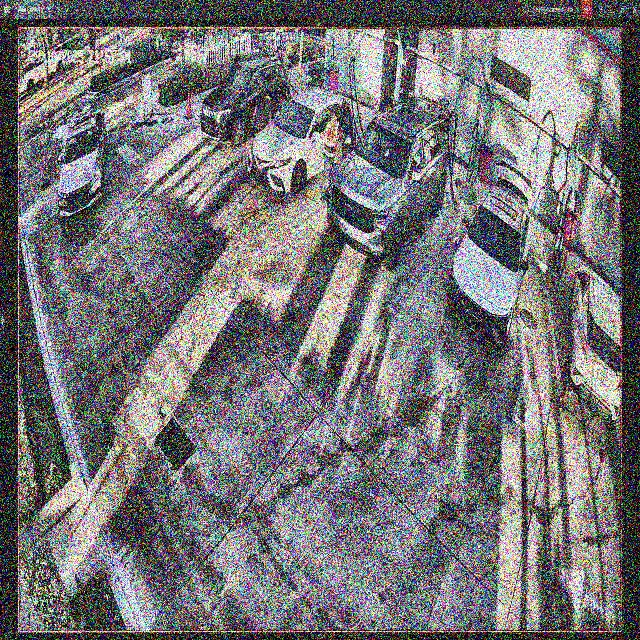Car: (329, 99, 449, 268), (448, 155, 534, 347), (249, 90, 362, 196), (199, 55, 290, 146)
